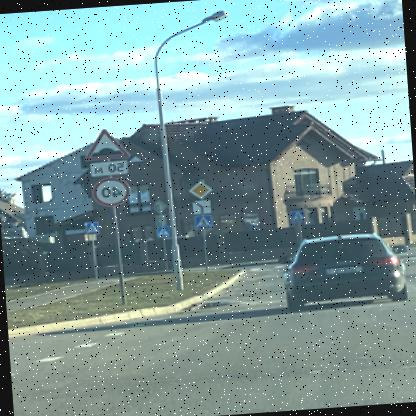crosswalk: (85, 218, 104, 234), (197, 213, 216, 228), (290, 208, 309, 223), (158, 222, 172, 236)
speedlimit: (96, 176, 134, 207)
